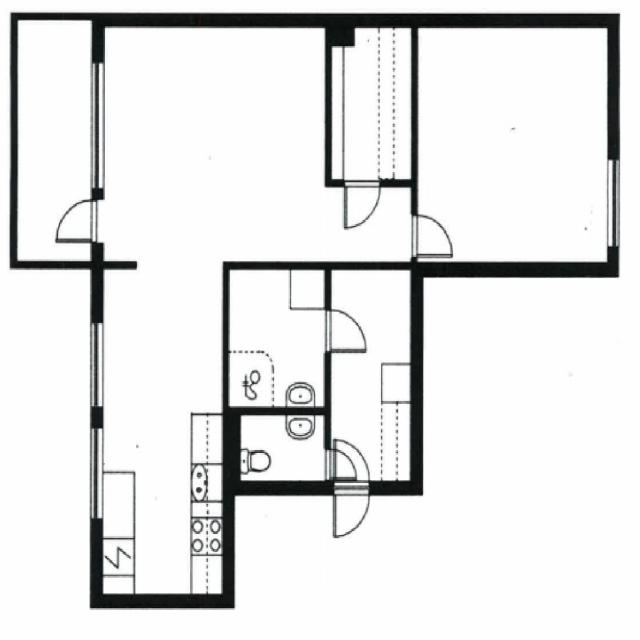door: (55, 200, 102, 242), (333, 440, 369, 494), (333, 482, 369, 536), (324, 310, 366, 352), (344, 180, 379, 228), (412, 215, 452, 257), (324, 449, 356, 480)
